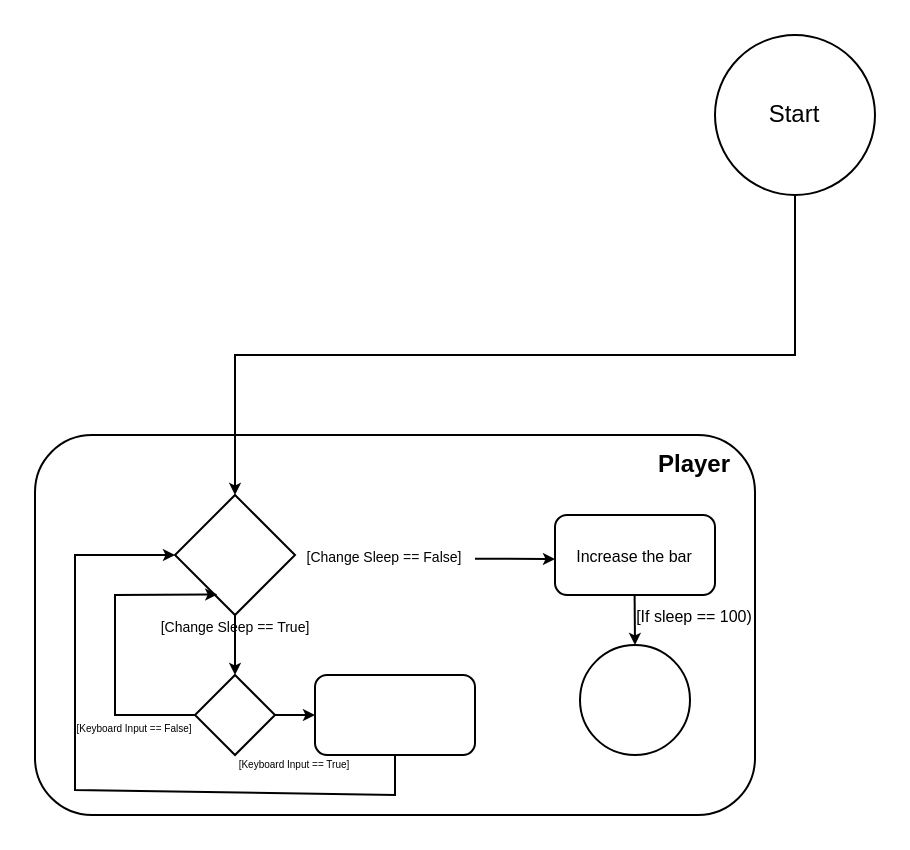
This 910x850 diagram has some shape labels left out. Here are the shapes that lost their labels. From the top down, the box of each, then its label:
(313, 673, 475, 755): Move Toward Object (WASD)
(578, 643, 690, 755): Change scene (level 2)
